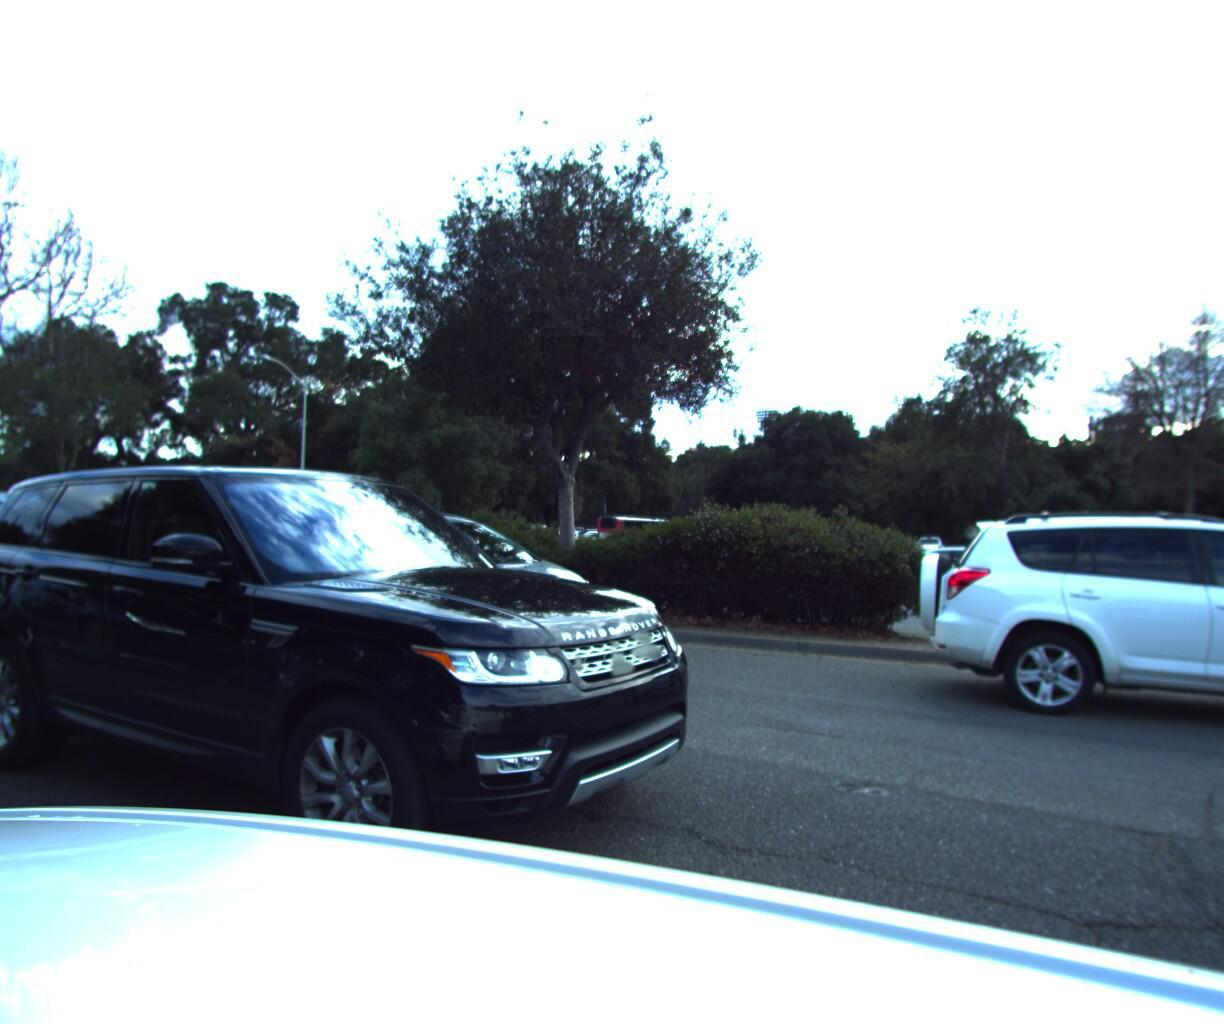car: (0, 433, 713, 977), (875, 503, 1224, 769), (229, 496, 620, 668), (0, 489, 197, 615), (849, 536, 1054, 617)
other_vehicle: (21, 485, 151, 558), (1196, 484, 1224, 663)
